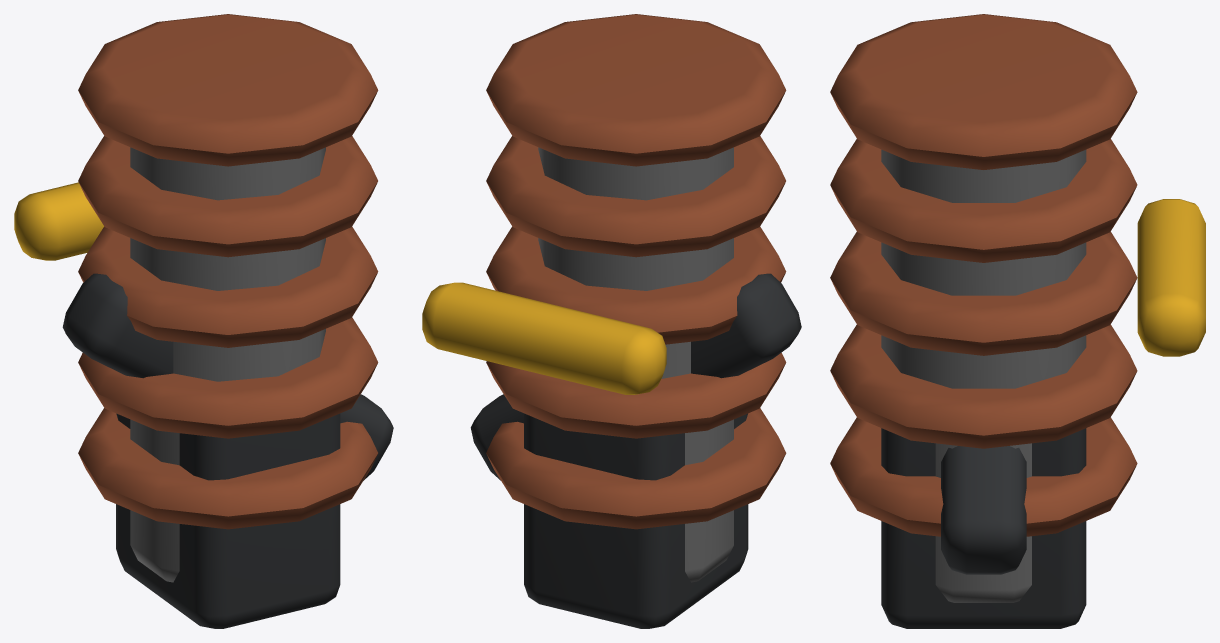
File: suspension-steering-sm.glb
3 renders of one model, left to right at view 1: azimuth 30°, elevation 25°; view 2: azimuth 150°, elevation 25°; view 3: azimuth 270°, elevation 25°, orthographic. The views are drawn at different scales.
Parts seen in each view (by area): view 1: suspension-steering; view 2: suspension-steering; view 3: suspension-steering.
Boxes of the visible parts, x1,y1,x2,y2 form: suspension-steering: (14,14,393,628); suspension-steering: (422,14,801,628); suspension-steering: (830,14,1205,628).
Bounding box in the file's own units: 0.213 × 0.345 × 0.22.
